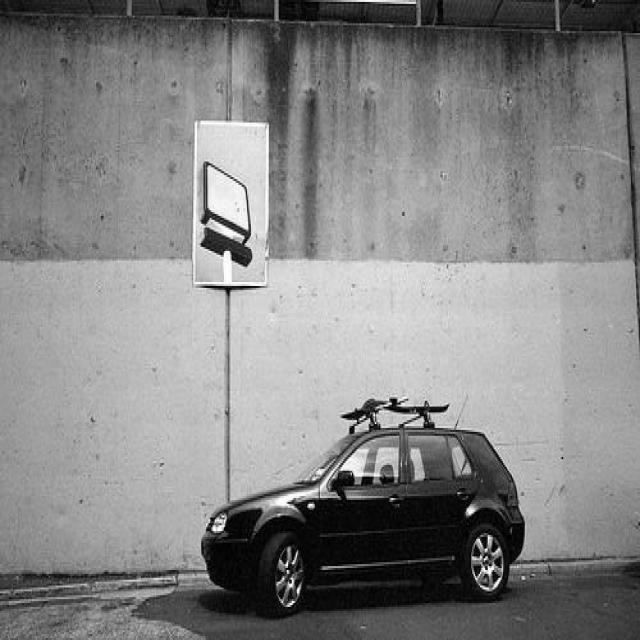vehicle: (200, 397, 526, 616)
